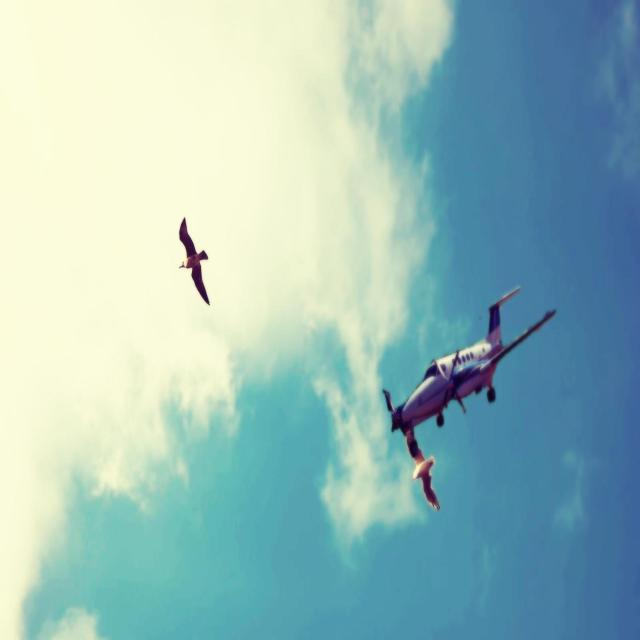airplane: (398, 282, 558, 430)
